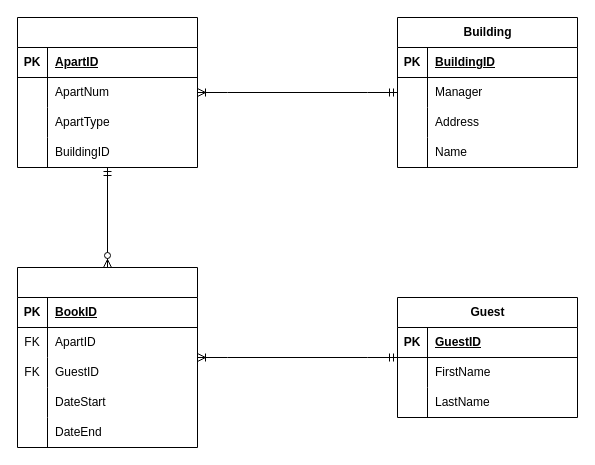
The diagram is 595 pixels wide and 465 high, and some of its shapes have lost their labels. The box of each missing label's shape, as (x1, y1, x2, y2) in pixels:
Apartment: (16, 16, 198, 168)
Booking: (16, 266, 198, 448)
